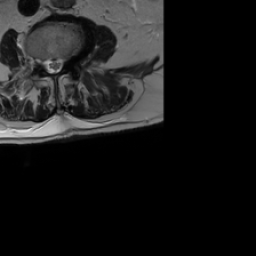CCS_stenosis: (50, 52, 57, 77)
LFS_severe_stenosis: (64, 50, 71, 72)
LLS_normal: (57, 52, 64, 74)
RFS_normal: (36, 52, 43, 72)
RLS_normal: (43, 54, 50, 76)
